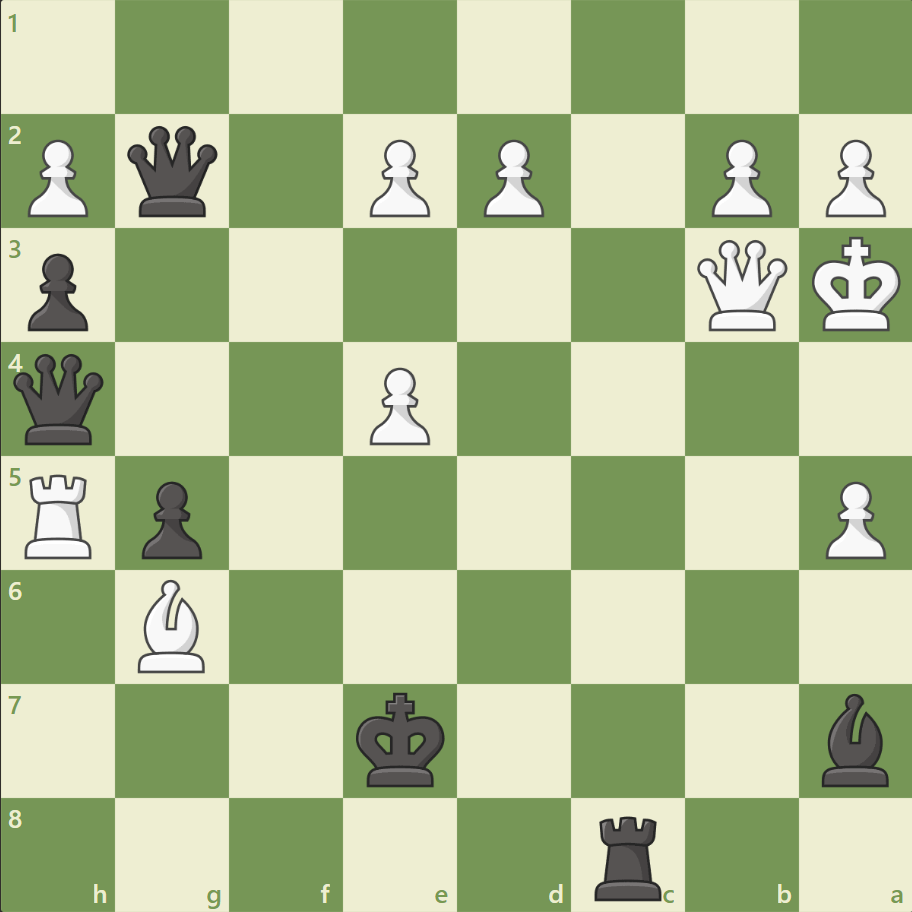B: (131, 574, 215, 676)
K: (806, 231, 906, 339)
P: (701, 132, 776, 223), (474, 132, 549, 223), (20, 132, 95, 223), (815, 473, 889, 564), (361, 359, 435, 450), (815, 132, 889, 223), (361, 132, 435, 223)
Q: (691, 236, 790, 335)
R: (19, 466, 102, 563)
b: (812, 687, 896, 790)
k: (351, 685, 451, 793)
p: (133, 473, 208, 564), (20, 246, 95, 337)
q: (10, 349, 109, 449), (124, 122, 223, 222)
r: (587, 806, 670, 904)
